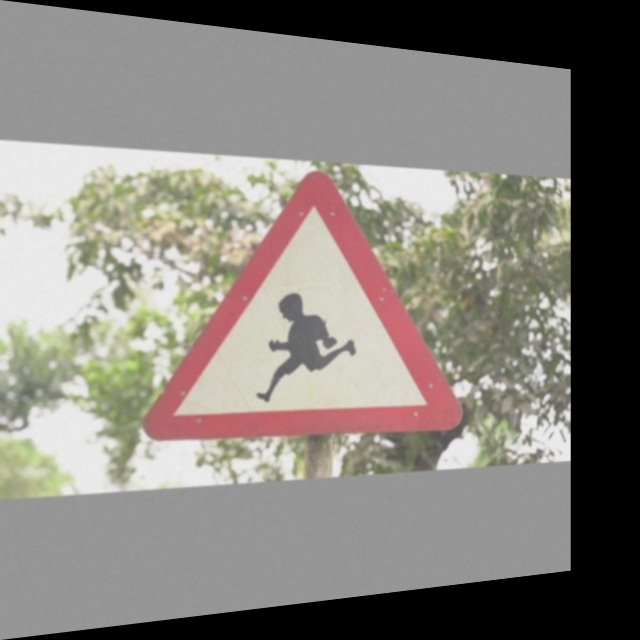School_Ahead: (157, 164, 459, 444)
